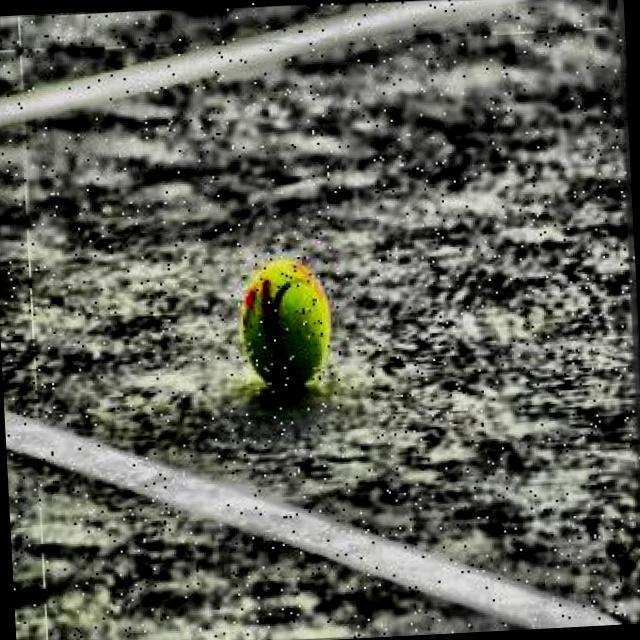Tennis Ball: (240, 254, 337, 397)
